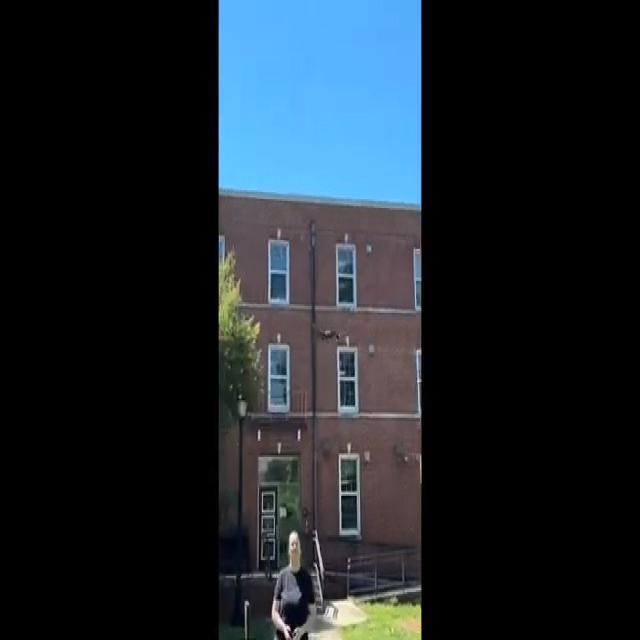drone: (306, 309, 348, 350)
